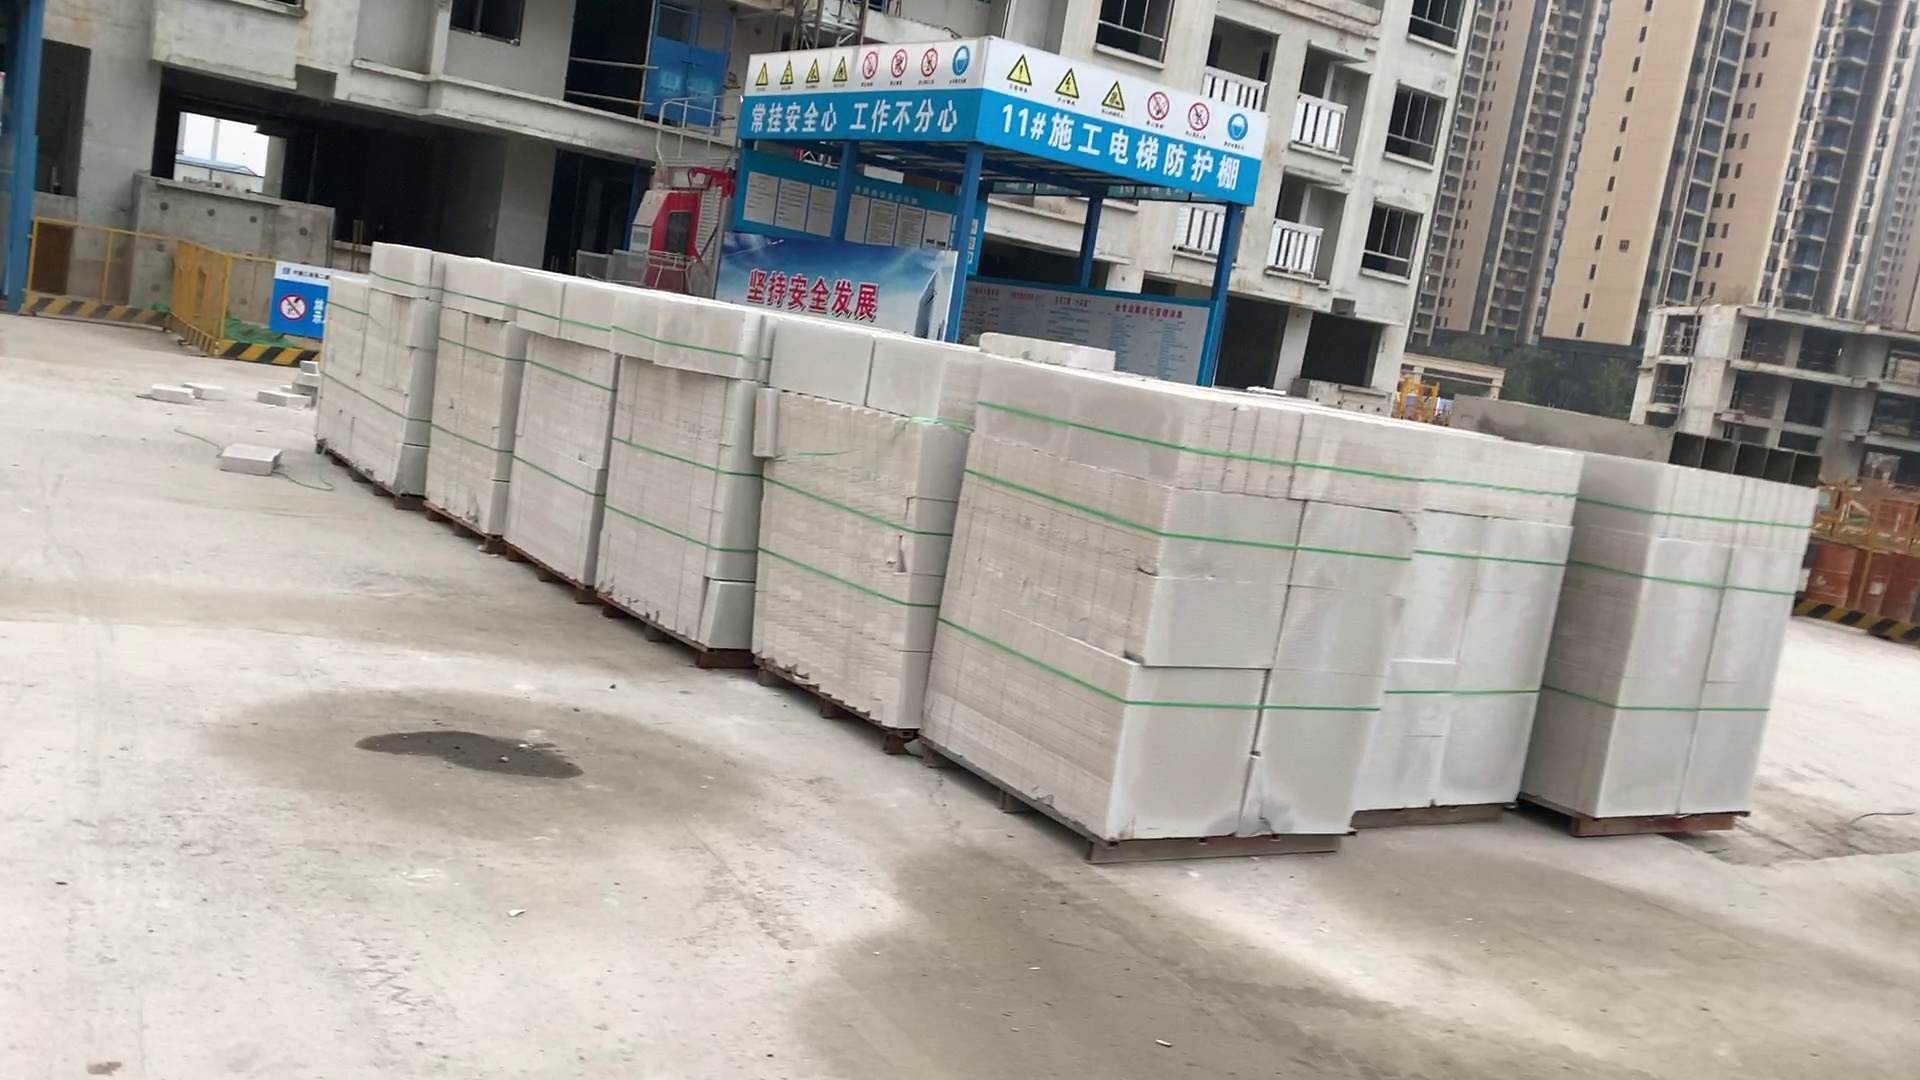brickwork: (934, 363, 1360, 853), (1553, 464, 1803, 841), (735, 323, 916, 725), (1357, 438, 1549, 808), (603, 301, 738, 655), (502, 280, 596, 575), (316, 243, 422, 476), (422, 266, 500, 533)
